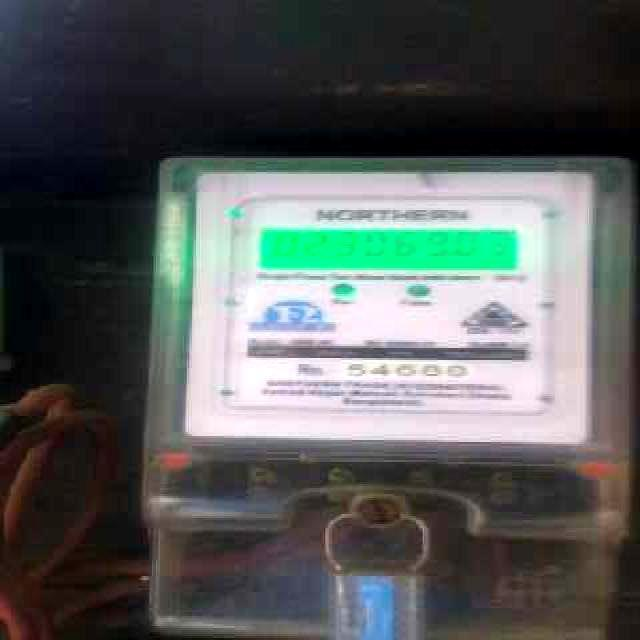LCD: (255, 219, 533, 288)
